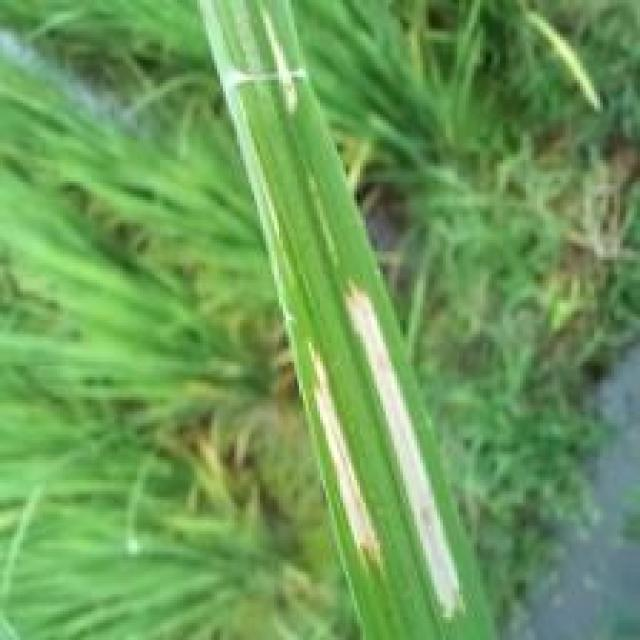Rice_Hispa: (346, 287, 465, 614), (308, 340, 383, 567)
